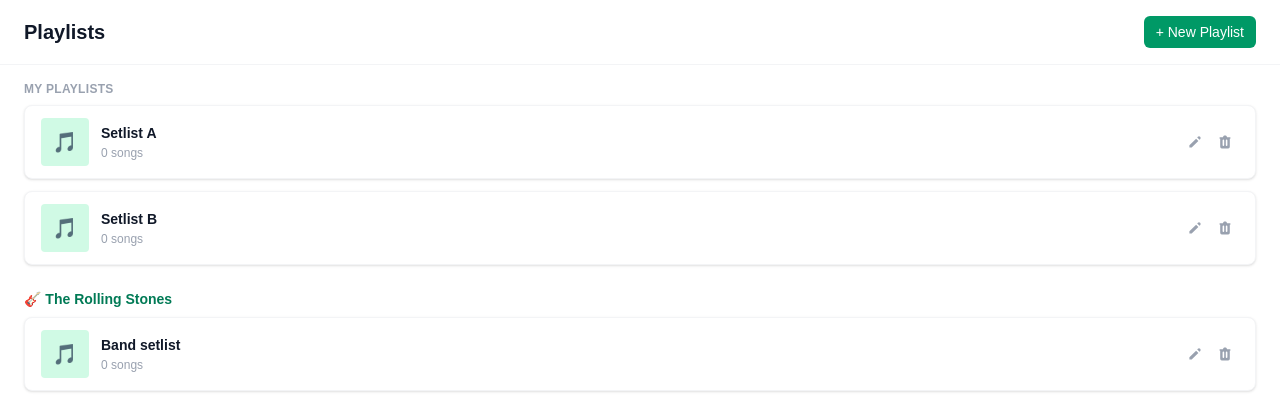
it: PlaylistsView › deletes a playlist through the injected action and removes its card
This screenshot has width=1280, height=409.
What coordinates should you click on to do the following:
click the button named "Delete Setlist A"
I would click on:
 (1225, 142)
Its box is [1211,128,1239,156].
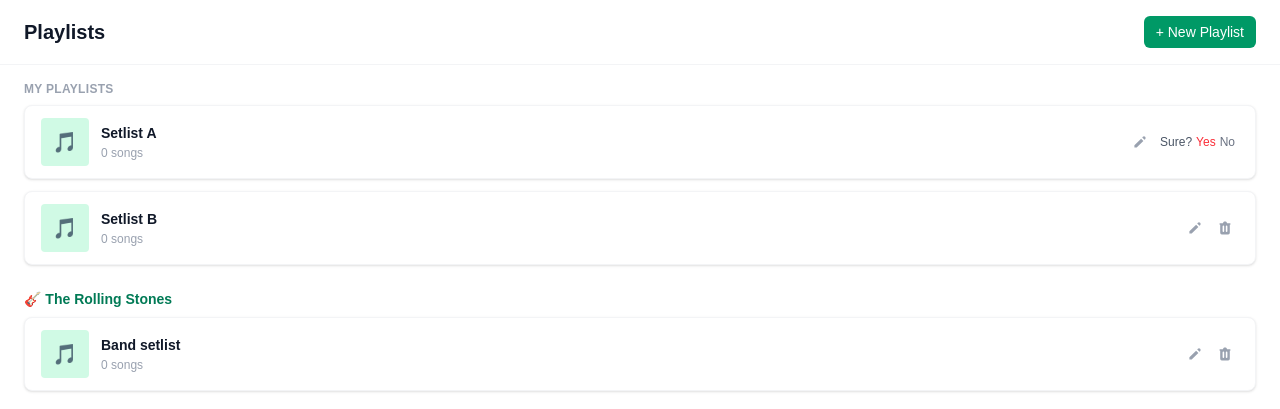
What coordinates should you click on to do the following:
click the button "Yes"
I would click on:
 (1206, 142)
Its box is [1196,134,1216,150].
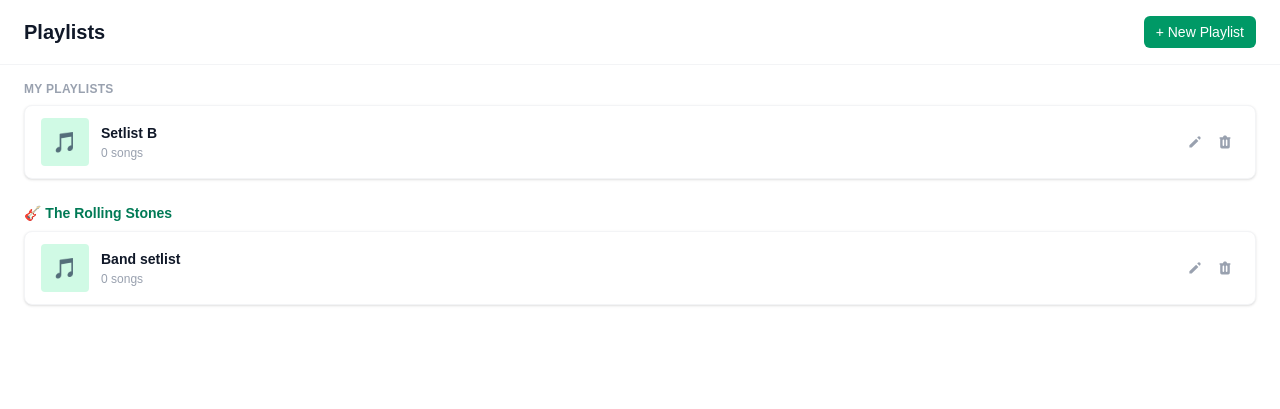
Expected: the text "Setlist B" is shown, [101,125,157,141]
Expected: the button "Setlist A" is gone
